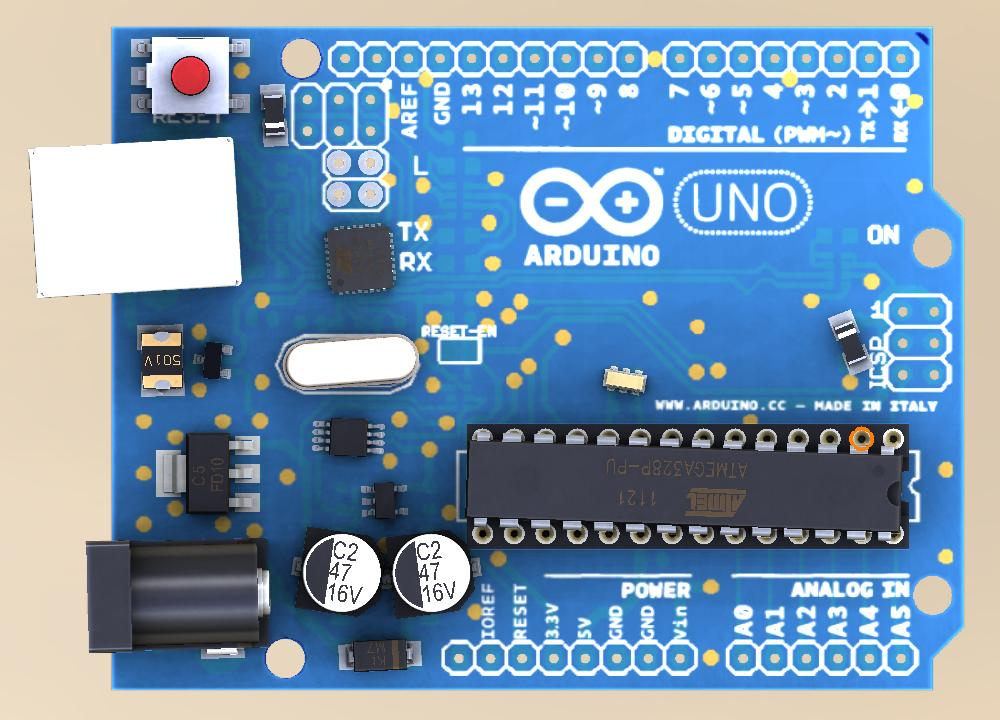16MHz Crystal: (600, 363, 651, 397)
47uF CAP: (291, 524, 385, 617), (389, 527, 477, 618)
ATMEL328P: (469, 421, 911, 545)
ATMega16u2: (321, 221, 398, 299)
CD1206: (827, 309, 872, 376), (256, 79, 290, 150)
Crystal: (279, 331, 423, 395)
Fuse: (134, 320, 186, 399)
LMV358: (361, 481, 409, 520)
M7 diode: (329, 636, 426, 673)
Power: (83, 540, 275, 655)
Regulator: (137, 416, 277, 533)
Reset: (131, 34, 251, 119)
SSOT3: (193, 341, 234, 381)
USB: (29, 136, 246, 304)
lp2985: (307, 416, 391, 459)
